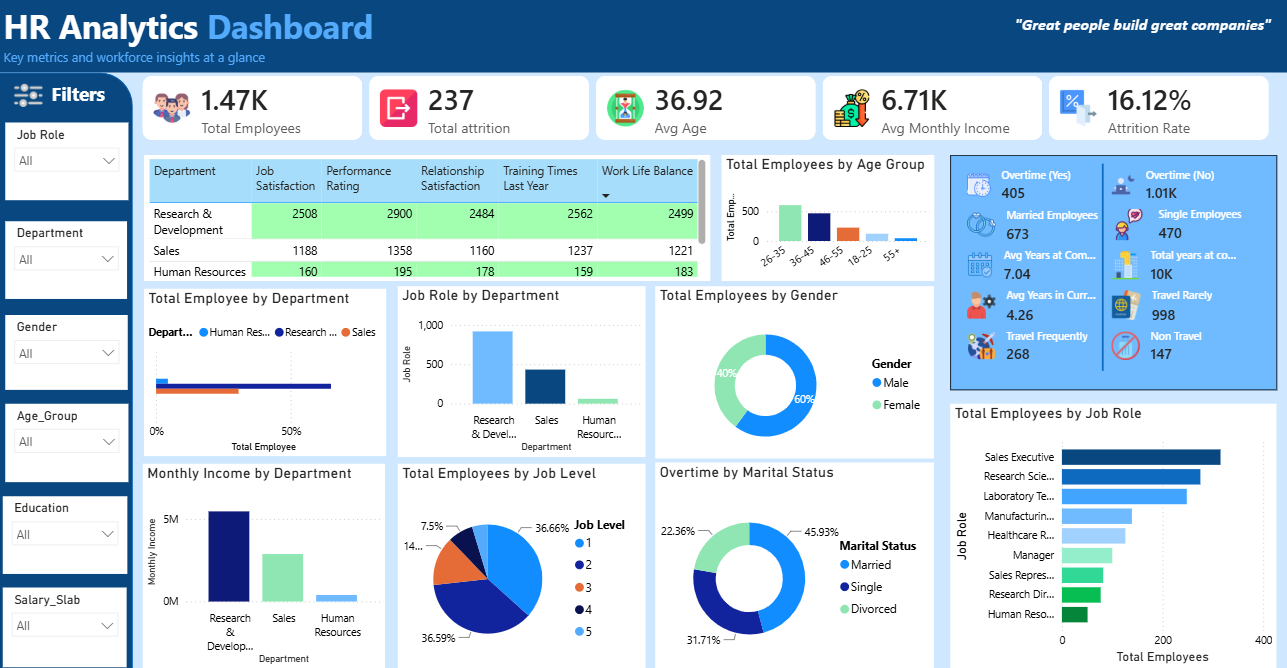

The dashboard page shown, as its layout file describes it:
{"tool":"powerbi","page":{"name":"Page 1","canvas":[1475,780],"ordinal":0},"visuals":[{"type":"shape","box":[0,0,1475.7,82.9],"z":0},{"type":"shape","box":[0,82.9,152.9,717.1],"z":1000},{"type":"textbox","box":[0,0,442.9,82.9],"z":2000},{"type":"slicer","fields":{"Values":["hr job_details.department"]},"box":[7.1,252.9,139.4,89.2],"z":3000},{"type":"slicer","fields":{"Values":["hr job_details.job_role"]},"box":[7.1,140,140.8,89.2],"z":4000},{"type":"slicer","fields":{"Values":["hr employees.gender"]},"box":[7.1,360,140,85.7],"z":5000},{"type":"slicer","fields":{"Values":["hr employees.age_group"]},"box":[7.1,461.4,140.7,89.3],"z":6000},{"type":"slicer","fields":{"Values":["hr employees.education"]},"box":[4.4,566.7,142.2,89.2],"z":7000},{"type":"slicer","fields":{"Values":["hr compensation.salary_slab"]},"box":[4.5,670.9,141.8,90.9],"z":8000},{"type":"clusteredBarChart","fields":{"Y":["hr employees.Total_Emp"],"Series":["hr job_details.department"]},"box":[165.7,330,277.1,191.4],"z":9000},{"type":"donutChart","fields":{"Category":["hr employees.gender"],"Y":["CountNonNull(hr employees.emp_id)"]},"box":[750,326.7,318.3,196.7],"z":10000},{"type":"clusteredColumnChart","fields":{"Category":["hr employees.age_group"],"Y":["hr employees.Total Employees"]},"box":[825.7,177.1,242.9,144.3],"z":11000},{"type":"columnChart","fields":{"Y":["Sum(hr compensation.monthly_income)"],"Category":["hr job_details.department"]},"box":[165,530,276.7,233.3],"z":12000},{"type":"pieChart","fields":{"Y":["CountNonNull(hr job_details.emp_id)"],"Category":["hr job_details.job_level"]},"box":[455,530,283.3,233.3],"z":13000},{"type":"donutChart","fields":{"Y":["CountNonNull(hr job_details.over_time)"],"Category":["hr employees.marital_status"]},"box":[750,528.3,318.3,235],"z":14000},{"type":"clusteredColumnChart","fields":{"Category":["hr job_details.department"],"Y":["CountNonNull(hr job_details.job_role)"]},"box":[455,326.7,283.3,195],"z":15000},{"type":"tableEx","fields":{"Values":["hr job_details.department","Sum(hr job_satisfaction.job_satisfaction)","Sum(hr job_satisfaction.performance_rating)","Sum(hr job_satisfaction.relationship_satisfaction)","Sum(hr job_satisfaction.training_times_last_year)","Sum(hr job_satisfaction.work_life_balance)"]},"box":[165.7,177.1,647.1,144.3],"z":16000},{"type":"image","box":[7.5,91.7,53.3,35],"z":17000},{"type":"textbox","box":[33.8,87.7,112.3,43.1],"z":18000},{"type":"cardVisual","fields":{"Data":["hr employees.Total Employees","Sum(hr employees.attrition_count)","hr employees.Avg Age","hr compensation.Avg Monthly Income","hr employees.Attrition Rate"]},"box":[147.1,70,1325.7,107.1],"z":19000},{"type":"textbox","box":[1155.7,11.4,304.3,58.6],"z":20000},{"type":"cardVisual","fields":{"Data":["hr job_details.Overtime Yes","hr job_details.Overtime No","hr employees.Married Employees","hr employees.Single Employees","hr job_details.Avg Years at Company","Sum(hr job_details.years_at_company)","hr job_details.Avg Years in Current Role","hr job_details.Travel Rarely","hr job_details.Travel Frequently","hr job_details.Non Travel"]},"box":[1086.7,176.7,373.3,268.9],"z":21000},{"type":"shape","box":[1111.1,187.8,300,236.7],"z":22000},{"type":"barChart","fields":{"Category":["hr job_details.job_role"],"Y":["Count(hr employees.employee_number)"]},"box":[1087,461,373,302],"z":23000}]}

Visuals, with their boxes in screenshot pixels (x1, y1, x2, y2), scaled from the page's 1475x780 canvas onto the 1287x668 screenshot:
shape: <box>0,0,1286,71</box>
shape: <box>0,71,133,667</box>
textbox: <box>0,0,386,71</box>
slicer - hr job_details.department: <box>6,217,128,293</box>
slicer - hr job_details.job_role: <box>6,120,129,196</box>
slicer - hr employees.gender: <box>6,308,128,382</box>
slicer - hr employees.age_group: <box>6,395,129,472</box>
slicer - hr employees.education: <box>4,485,128,562</box>
slicer - hr compensation.salary_slab: <box>4,575,128,652</box>
clusteredBarChart - hr employees.Total_Emp x hr job_details.department: <box>145,283,386,447</box>
donutChart - hr employees.gender x CountNonNull(hr employees.emp_id): <box>654,280,932,448</box>
clusteredColumnChart - hr employees.age_group x hr employees.Total Employees: <box>720,152,932,275</box>
columnChart - Sum(hr compensation.monthly_income) x hr job_details.department: <box>144,454,385,654</box>
pieChart - CountNonNull(hr job_details.emp_id) x hr job_details.job_level: <box>397,454,644,654</box>
donutChart - CountNonNull(hr job_details.over_time) x hr employees.marital_status: <box>654,452,932,654</box>
clusteredColumnChart - hr job_details.department x CountNonNull(hr job_details.job_role): <box>397,280,644,447</box>
tableEx - hr job_details.department x Sum(hr job_satisfaction.job_satisfaction): <box>145,152,709,275</box>
image: <box>7,79,53,109</box>
textbox: <box>29,75,127,112</box>
cardVisual - hr employees.Total Employees x Sum(hr employees.attrition_count): <box>128,60,1285,152</box>
textbox: <box>1008,10,1274,60</box>
cardVisual - hr job_details.Overtime Yes x hr job_details.Overtime No: <box>948,151,1274,382</box>
shape: <box>969,161,1231,364</box>
barChart - hr job_details.job_role x Count(hr employees.employee_number): <box>948,395,1274,653</box>
